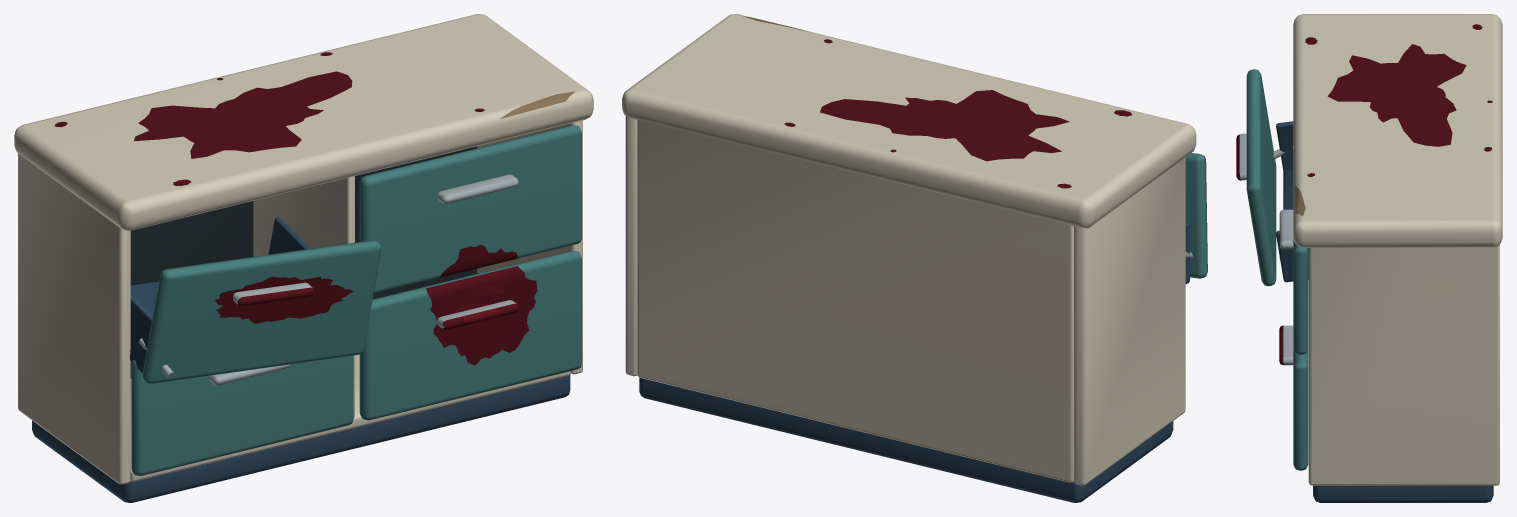
Rendered from clinical_storage_cabinet.glb.
3 renders of one model, left to right at view 1: azimuth 30°, elevation 25°; view 2: azimuth 150°, elevation 25°; view 3: azimuth 270°, elevation 25°, orthographic. The views are drawn at different scales.
Parts seen in each view (by area): view 1: OB_ClinicalStorageCabinet_01_Static; view 2: OB_ClinicalStorageCabinet_01_Static; view 3: OB_ClinicalStorageCabinet_01_Static.
Part boxes in pixels (x1,y1,x2,y2): OB_ClinicalStorageCabinet_01_Static: (14,14,593,502); OB_ClinicalStorageCabinet_01_Static: (622,14,1207,502); OB_ClinicalStorageCabinet_01_Static: (1236,14,1502,502).
Size of the model in its own units: 1.4 by 0.8806 by 0.7374.
